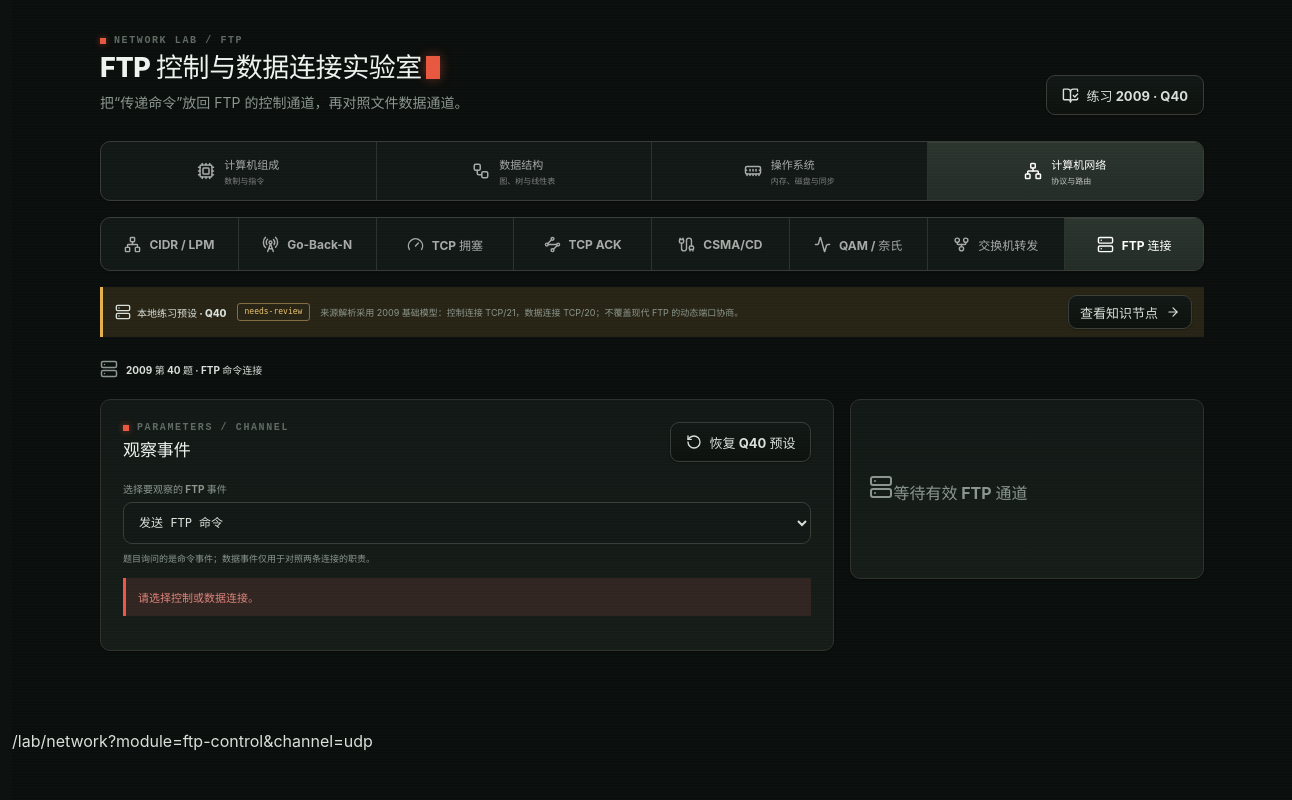
Test: FtpControlConnectionLabPage › fails closed on an unsupported channel and restores the preset
Expected: the message shows "控制或数据", [138, 591, 259, 605]
Expected: the field labelled "当前连接" is not shown
Click the button "恢复 Q40 预设" at [740, 442], box [670, 422, 811, 462]
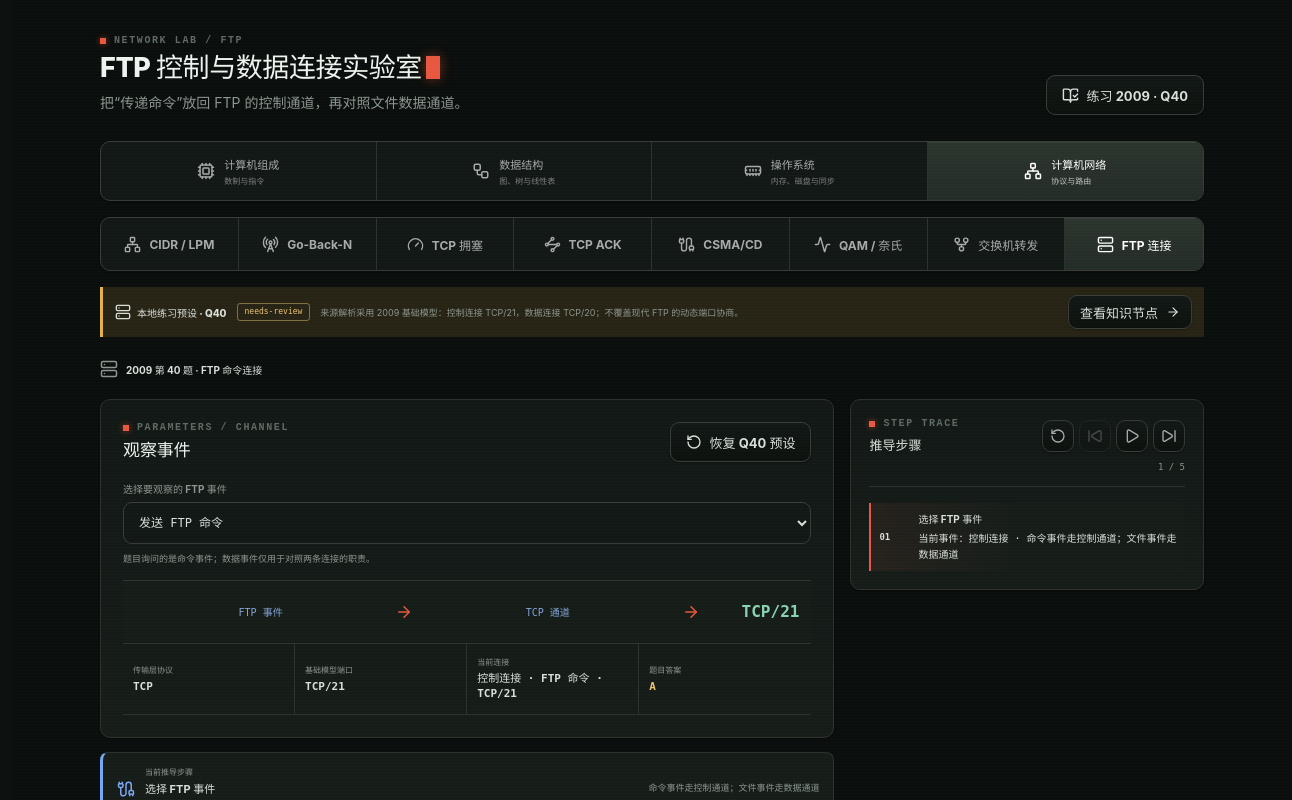
Now the element labelled "当前连接" shows "TCP/21", box [467, 644, 639, 714]
